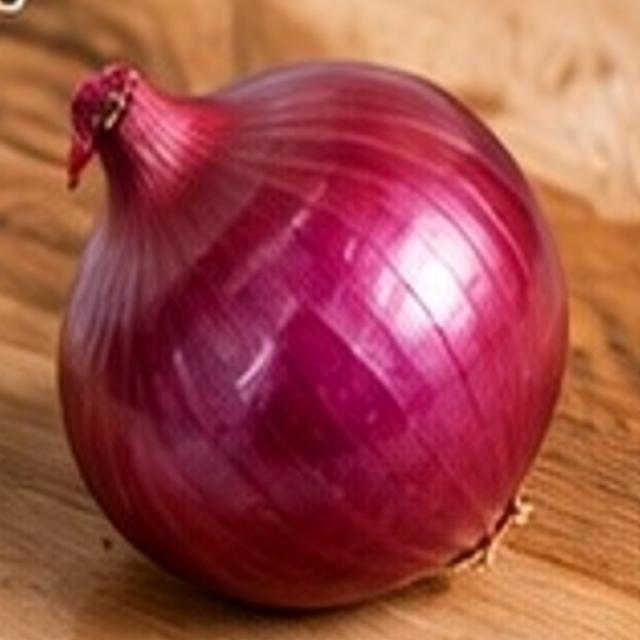healthy: (60, 64, 566, 607), (165, 105, 181, 120)
mechanical_damage: (59, 36, 571, 615)
